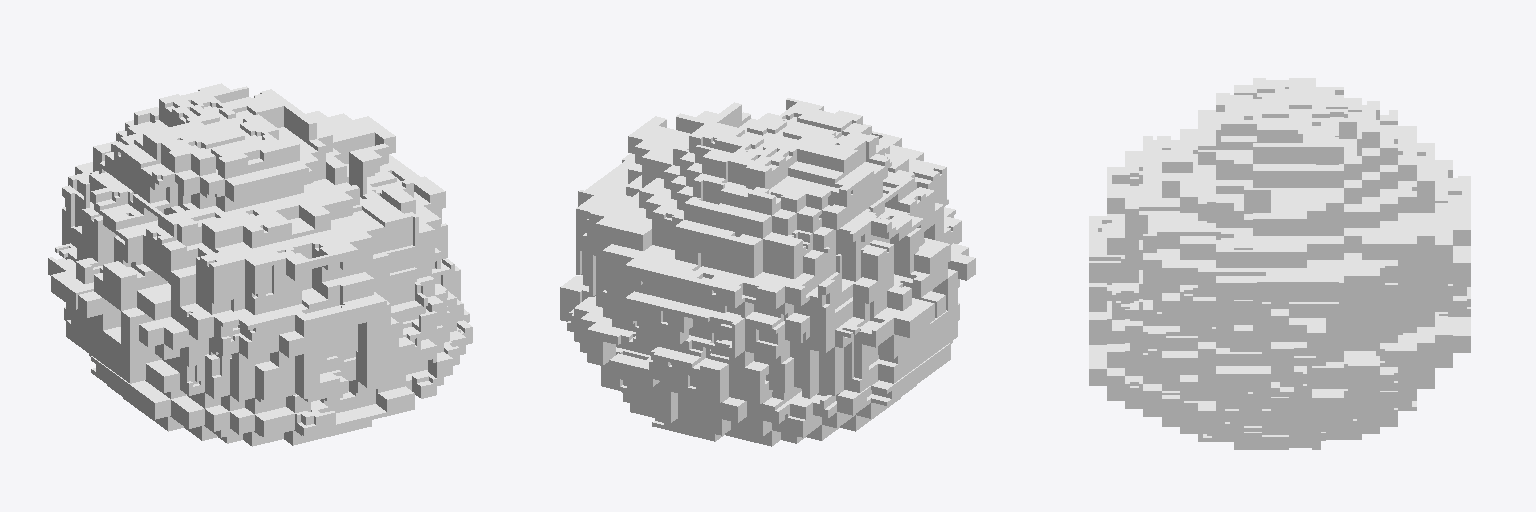
File: bush1-2-lod1.obj
The picture shows the model from 3 angles: view 1: azimuth 30°, elevation 25°; view 2: azimuth 150°, elevation 25°; view 3: azimuth 270°, elevation 25°; orthographic projection.
Parts seen in each view (by area): view 1: lod1; view 2: lod1; view 3: lod1.
Boxes of the visible parts, <box> form: lod1: <box>48,83,472,446</box>; lod1: <box>560,98,975,446</box>; lod1: <box>1089,78,1470,449</box>.
Size of the model in its own units: 8.8 by 6.4 by 8.4.